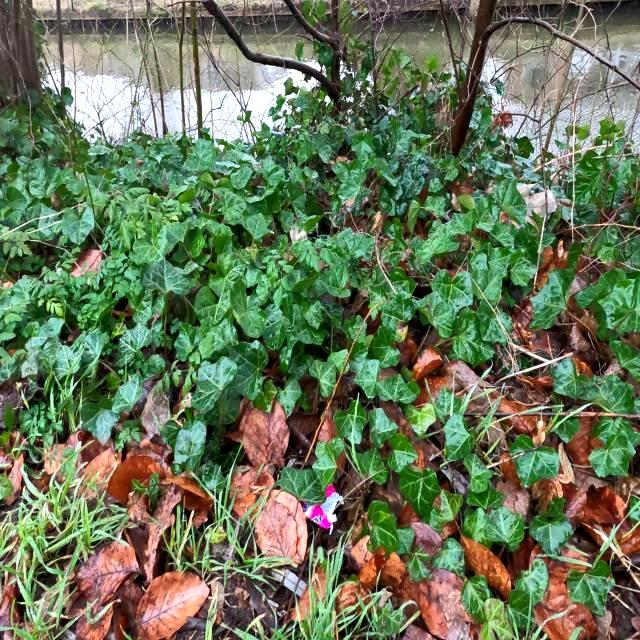Plastic: (301, 482, 343, 534)
